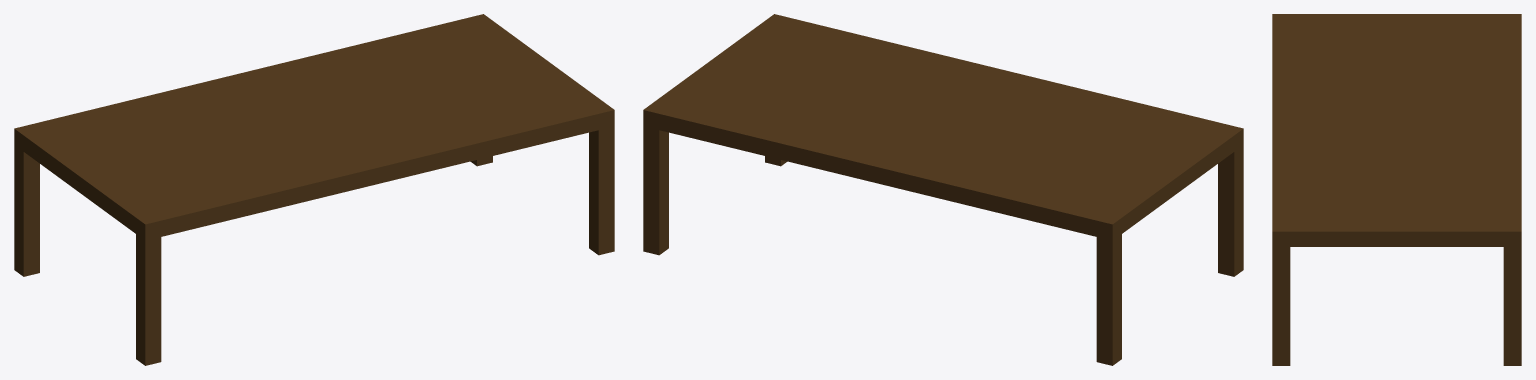
The model's file is Table01.fbx.
3 renders of one model, left to right at view 1: azimuth 30°, elevation 25°; view 2: azimuth 150°, elevation 25°; view 3: azimuth 270°, elevation 25°, orthographic. The views are drawn at different scales.
Visible parts, largest first — view 1: Table01; view 2: Table01; view 3: Table01.
Boxes of the visible parts, x1=… form: Table01: x1=14, y1=14, x2=614, y2=365; Table01: x1=643, y1=14, x2=1243, y2=365; Table01: x1=1272, y1=14, x2=1521, y2=365.
Bounding box in the file's own units: 975 × 281 × 472.
